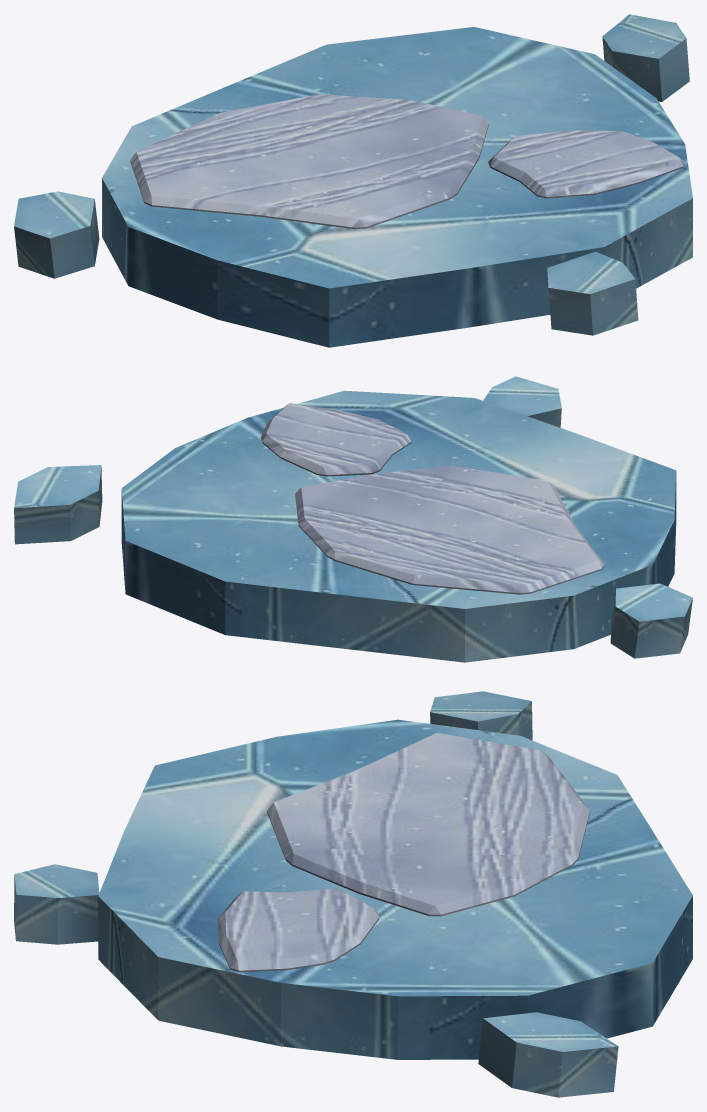
Rendered from rimeshore_ice_floe.glb.
3 views of the same model, one above another, from view 1: azimuth 30°, elevation 25°; view 2: azimuth 150°, elevation 25°; view 3: azimuth 270°, elevation 25° (orthographic). The views are drawn at different scales.
Parts seen in each view (by area): view 1: rimeshore_ice_floe; view 2: rimeshore_ice_floe; view 3: rimeshore_ice_floe.
Part boxes in pixels (bbox=[...]): rimeshore_ice_floe: bbox=[14, 14, 692, 347]; rimeshore_ice_floe: bbox=[14, 376, 692, 662]; rimeshore_ice_floe: bbox=[14, 691, 692, 1097].
Size of the model in its own units: 2.35 by 0.215 by 1.84.
2 materials, 2 textured.
